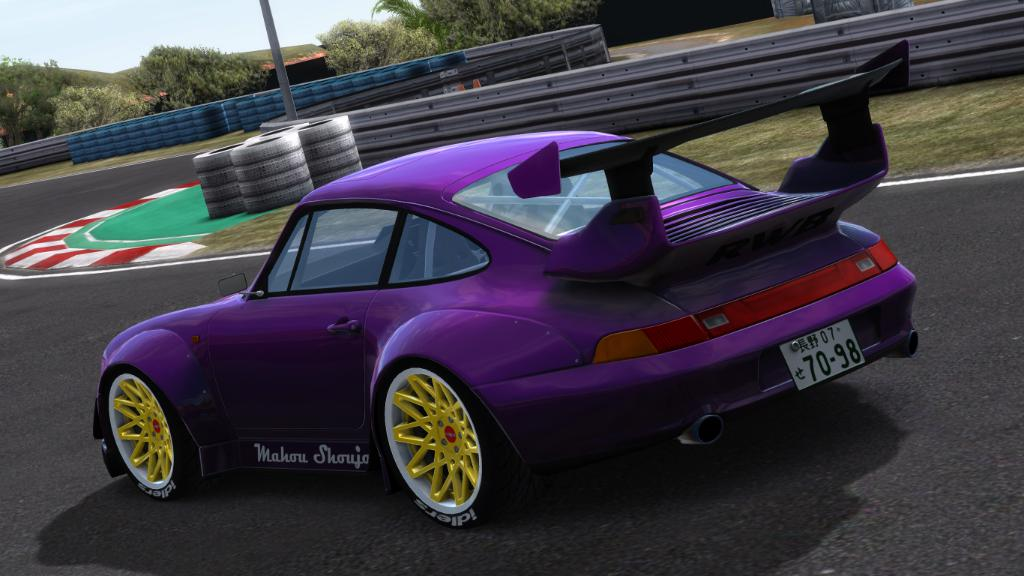Car: (90, 40, 917, 535)
